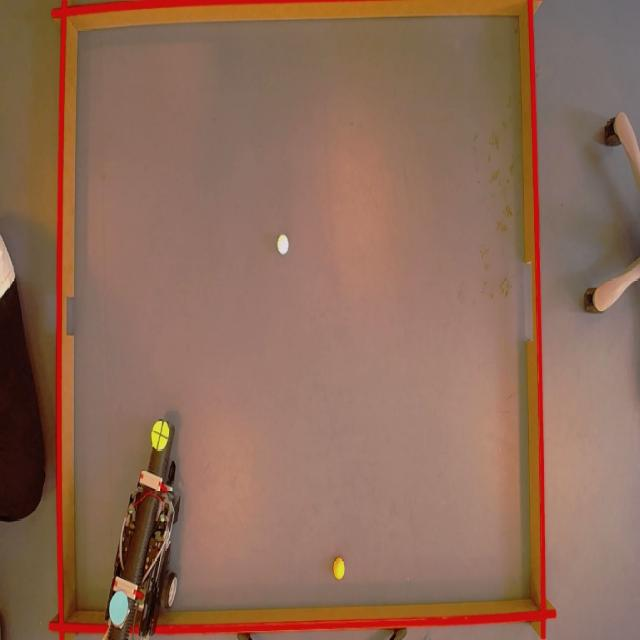orange: (331, 558, 347, 582)
robot: (92, 418, 184, 640)
robot-front: (151, 419, 170, 451)
robot-rear: (108, 589, 129, 628)
white: (275, 233, 289, 255)
